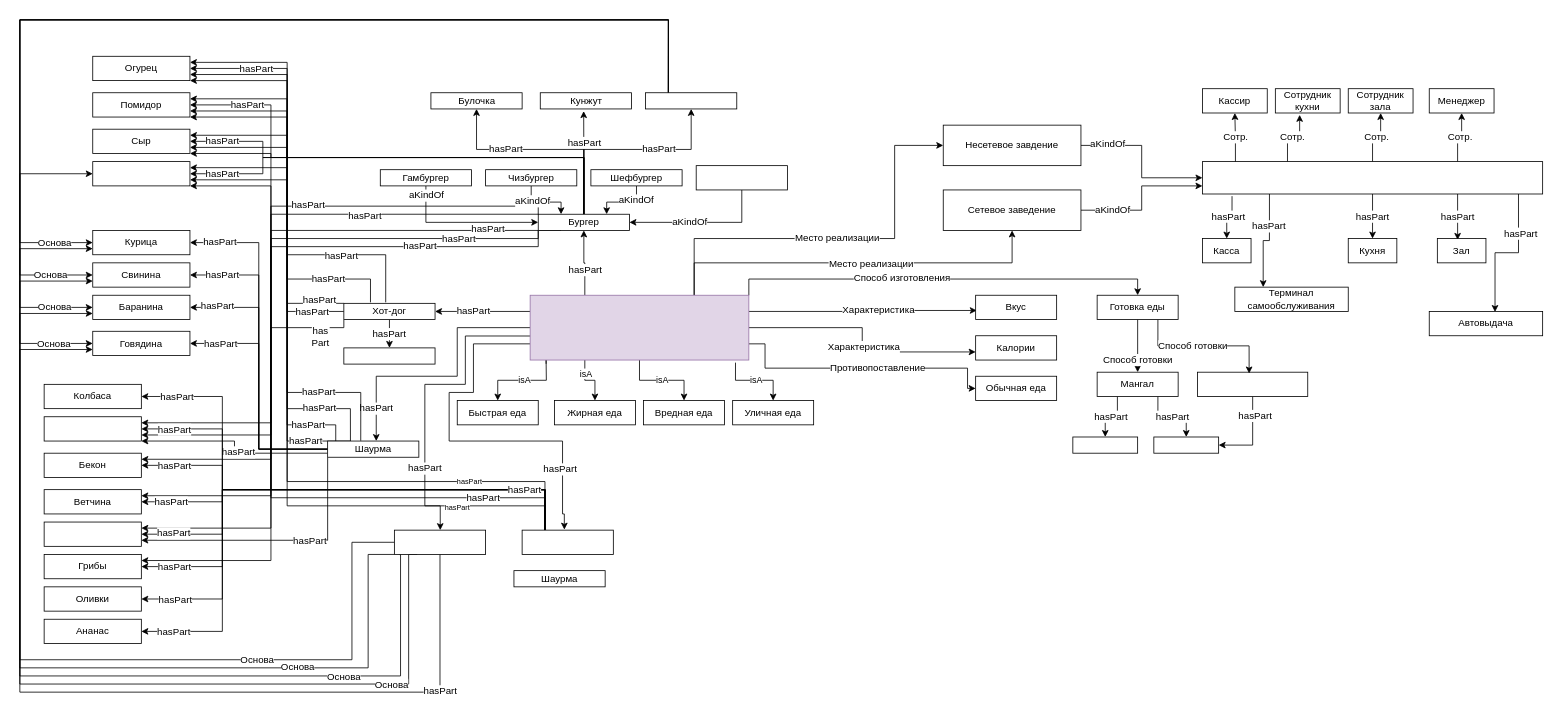
The diagram is 1557 pixels wide and 713 high, and some of its shapes have lost their labels. Each missing label, with the box of its shape:
Биг Тейсти (Спешиал): (695, 165, 787, 190)
Зелень: (43, 416, 141, 441)
Котлета: (645, 92, 737, 109)
Лук: (92, 161, 190, 186)
Перец: (43, 521, 141, 546)
Пицца: (521, 529, 613, 554)
Решетка: (1072, 436, 1138, 453)
Сосиска: (343, 347, 435, 364)
Фастфуд: (529, 294, 749, 360)
Фастфуд-заведение: (1202, 161, 1543, 194)
Шампуры: (1153, 436, 1219, 453)
Шашлык: (394, 529, 486, 554)
Электрошашлычница: (1197, 371, 1308, 396)
